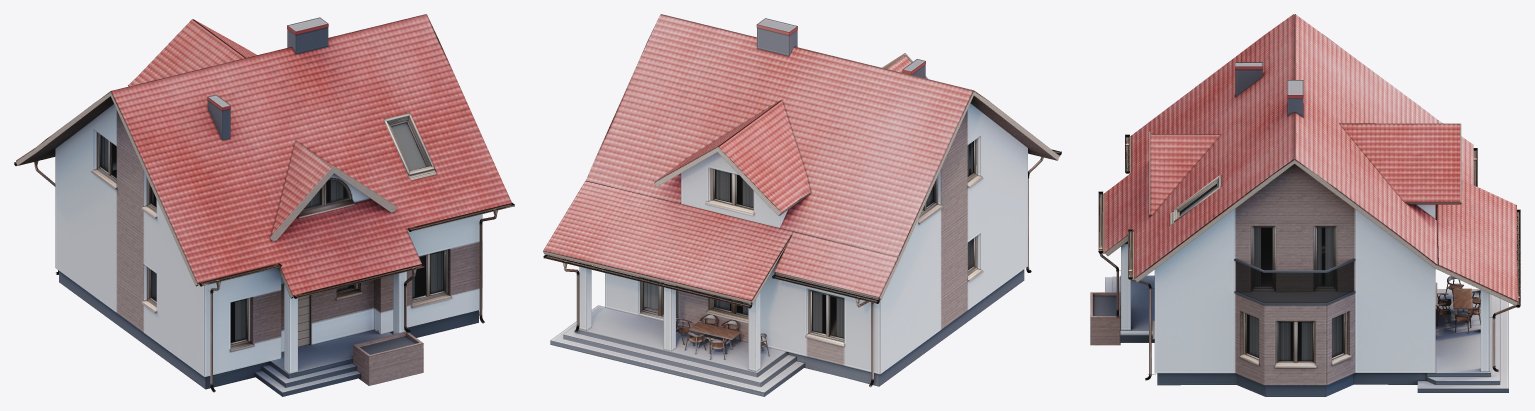
File: house2.glb
3 renders of one model, left to right at view 1: azimuth 30°, elevation 25°; view 2: azimuth 150°, elevation 25°; view 3: azimuth 270°, elevation 25°, orthographic. The views are drawn at different scales.
Visible parts, largest first — view 1: Object029_Material #2125644136_0 (×3), Object030_CRN.cgaxis_models_46_15_03_0, Object030_CRN.cgaxis_models_46_14_03_0, Line017; view 2: Object029_Material #2125644136_0 (×3), Object030_CRN.cgaxis_models_46_15_03_0, Line017; view 3: Object029_Material #2125644136_0 (×3), Object030_CRN.Solid Glass_0, Object030_CRN.cgaxis_models_46_14_03_0, Line017, Object030_CRN.cgaxis_models_46_15_03_0.
Boxes of the visible parts, x1=… form: Object029_Material #2125644136_0 (×3): x1=14, y1=14, x2=514, y2=396; Object030_CRN.cgaxis_models_46_15_03_0: x1=100, y1=135, x2=443, y2=297; Object030_CRN.cgaxis_models_46_14_03_0: x1=150, y1=122, x2=426, y2=342; Line017: x1=104, y1=137, x2=443, y2=340; Object029_Material #2125644136_0 (×3): x1=543, y1=14, x2=1061, y2=396; Object030_CRN.cgaxis_models_46_15_03_0: x1=643, y1=169, x2=933, y2=337; Line017: x1=644, y1=145, x2=970, y2=337; Object029_Material #2125644136_0 (×3): x1=1090, y1=14, x2=1520, y2=396; Object030_CRN.Solid Glass_0: x1=1236, y1=261, x2=1353, y2=302; Object030_CRN.cgaxis_models_46_14_03_0: x1=1180, y1=184, x2=1343, y2=357; Line017: x1=1249, y1=227, x2=1342, y2=360; Object030_CRN.cgaxis_models_46_15_03_0: x1=1278, y1=322, x2=1312, y2=360.
Size of the model in its own units: 11.49 by 9.11 by 13.96.
Materials: 5 (2 with a texture image).
